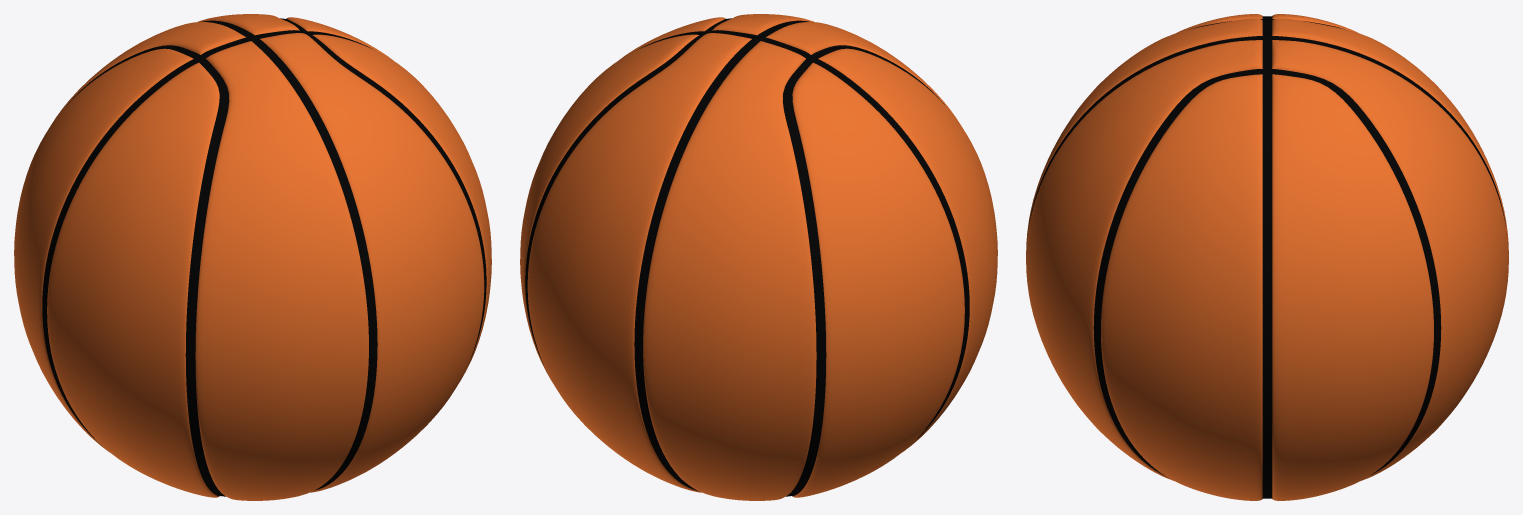
File: BasketBall.fbx
3 views of the same model, side by side, from view 1: azimuth 30°, elevation 25°; view 2: azimuth 150°, elevation 25°; view 3: azimuth 270°, elevation 25° (orthographic).
Parts seen in each view (by area): view 1: Sphere; view 2: Sphere; view 3: Sphere.
Part boxes in pixels (left/top/right/bottom): Sphere: left=14, top=14, right=491, bottom=500; Sphere: left=520, top=14, right=997, bottom=500; Sphere: left=1026, top=14, right=1508, bottom=500.
Size of the model in its own units: 9802 by 9898 by 9802.
